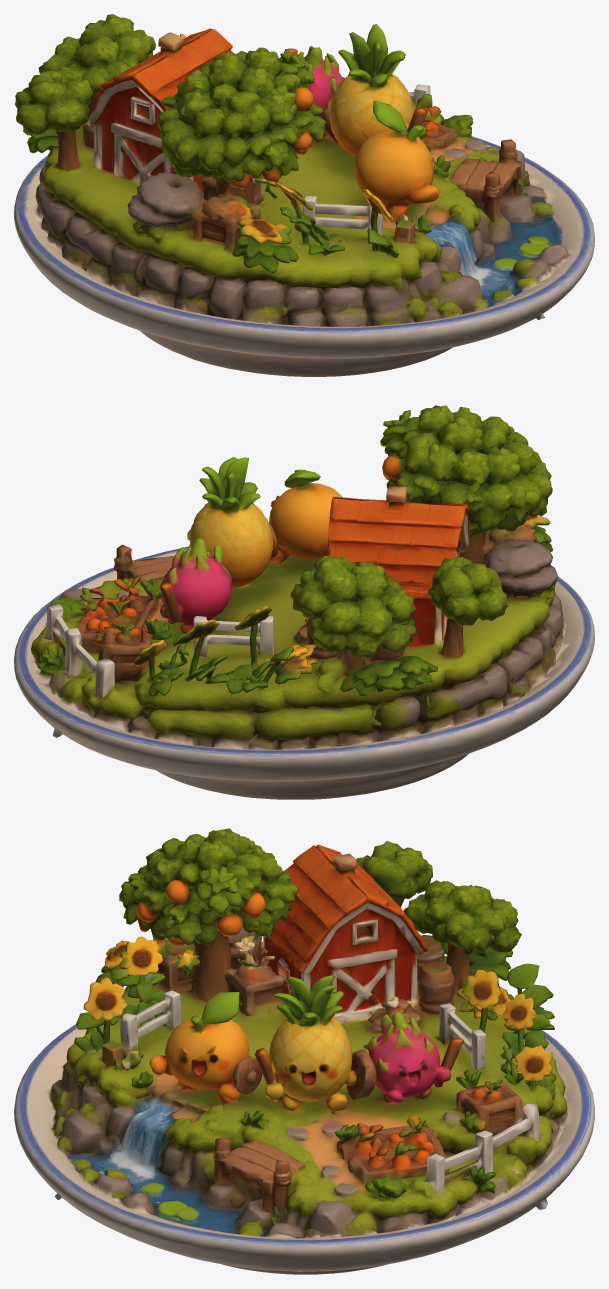
The model's file is seed-squad.glb.
3 renders of one model, top to bottom at view 1: azimuth 30°, elevation 25°; view 2: azimuth 150°, elevation 25°; view 3: azimuth 270°, elevation 25°, orthographic.
Parts seen in each view (by area): view 1: tripo_node_fb1baaeb-ea5e-417d-bd83-7872d55763f3; view 2: tripo_node_fb1baaeb-ea5e-417d-bd83-7872d55763f3; view 3: tripo_node_fb1baaeb-ea5e-417d-bd83-7872d55763f3.
Boxes of the visible parts, bbox=[...] form: tripo_node_fb1baaeb-ea5e-417d-bd83-7872d55763f3: bbox=[14, 14, 594, 376]; tripo_node_fb1baaeb-ea5e-417d-bd83-7872d55763f3: bbox=[14, 405, 594, 799]; tripo_node_fb1baaeb-ea5e-417d-bd83-7872d55763f3: bbox=[14, 828, 594, 1274].
Bounding box in the file's own units: 1 × 0.5988 × 0.9983.
1 material, 1 textured.
